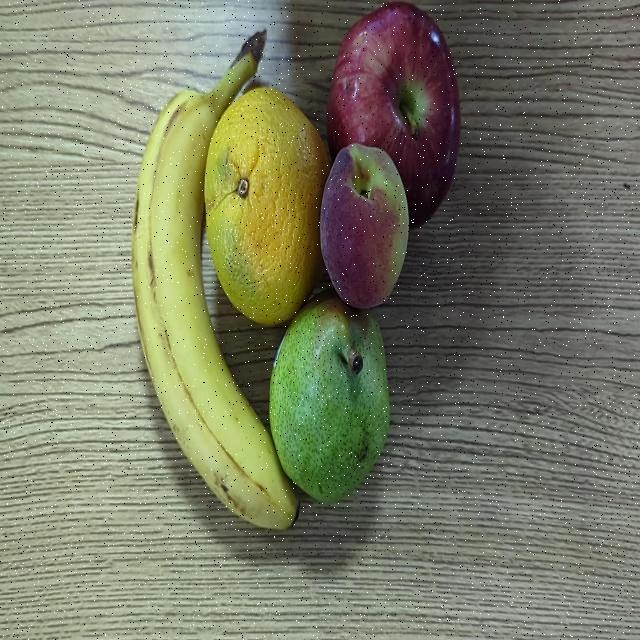Apel Merah: (330, 0, 460, 211)
Jeruk: (212, 102, 324, 314)
Persik: (323, 149, 403, 299)
Pir: (275, 303, 392, 498)
Pisang: (126, 23, 310, 556)
